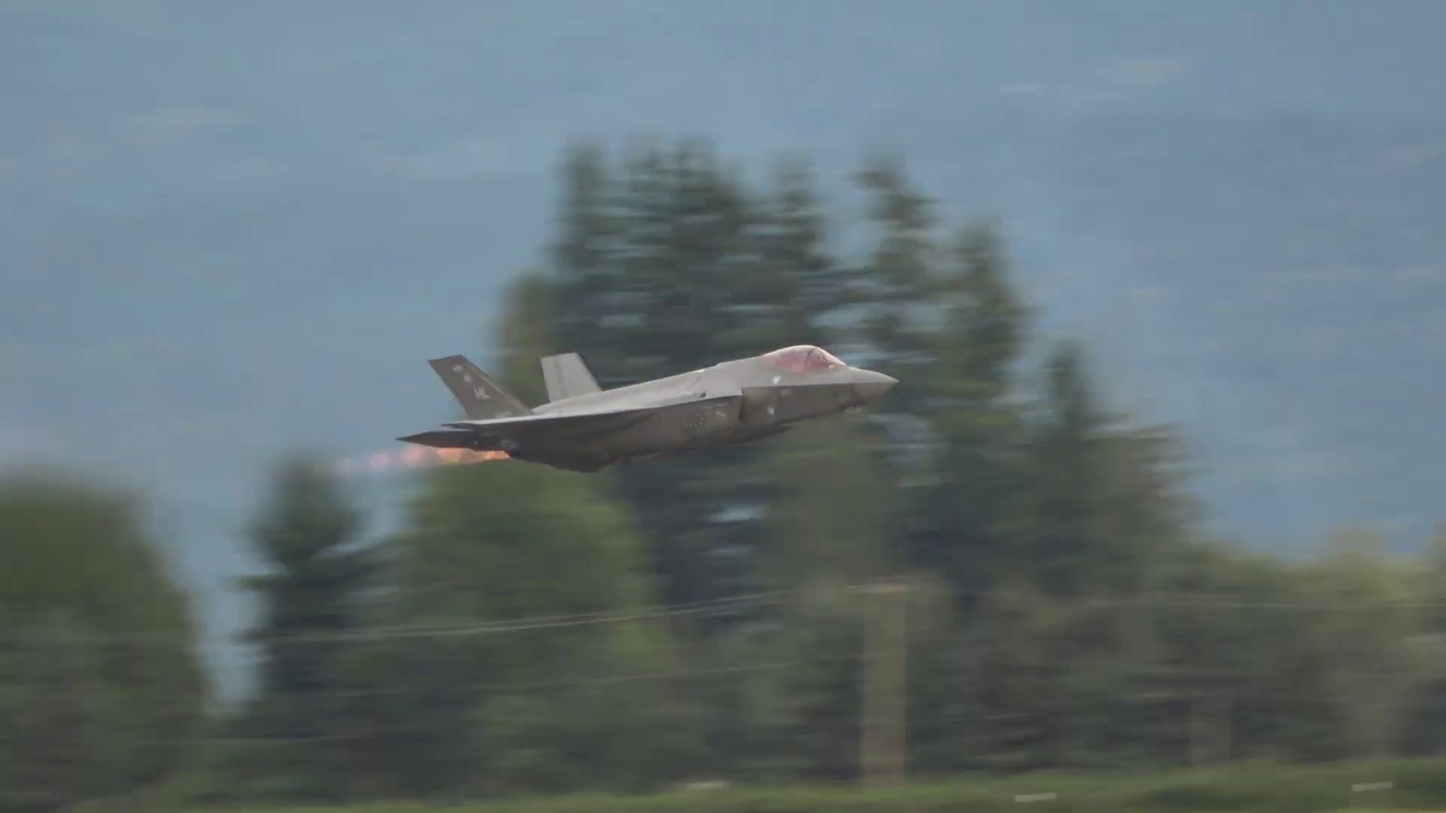F35: (392, 340, 904, 475)
